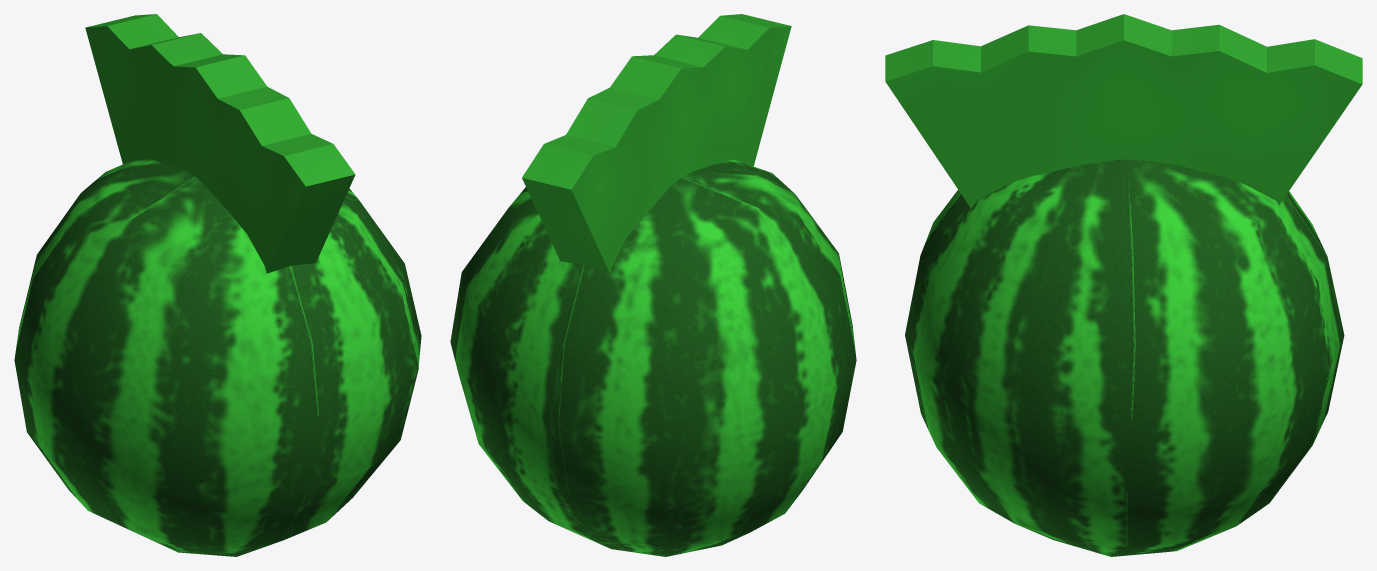
Rendered from watermelon_hair.fbx.
3 renders of one model, left to right at view 1: azimuth 30°, elevation 25°; view 2: azimuth 150°, elevation 25°; view 3: azimuth 270°, elevation 25°, orthographic. The views are drawn at different scales.
Visible parts, largest first — view 1: Irokez; view 2: Irokez; view 3: Irokez.
Boxes of the visible parts, x1,y1,x2,y2 form: Irokez: (14,14,421,556); Irokez: (450,14,856,556); Irokez: (885,14,1362,556).
Size of the model in its own units: 204 by 220 by 260.
